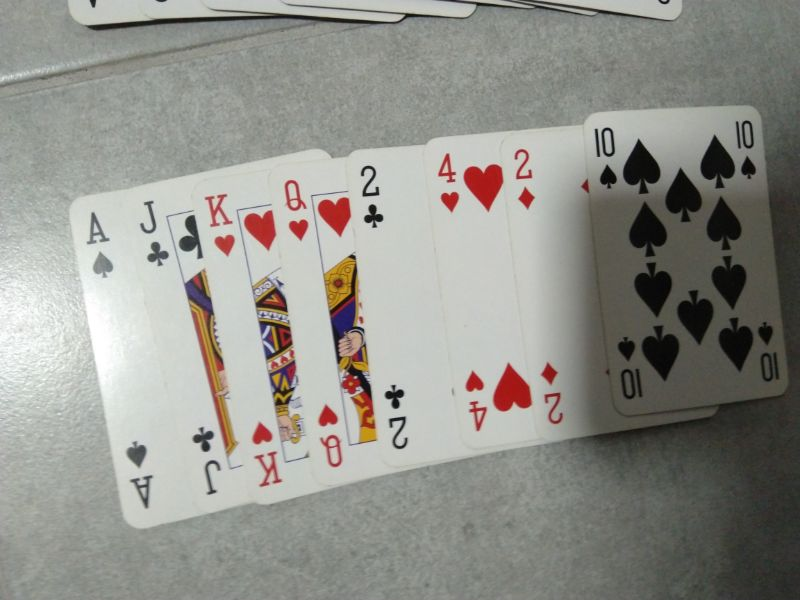2c: (377, 376, 418, 456), (351, 159, 392, 232)
2d: (506, 140, 546, 216), (532, 355, 570, 432)
4h: (458, 363, 499, 441), (429, 146, 469, 218)
As: (72, 200, 125, 287), (116, 430, 166, 518)
Jc: (183, 421, 231, 503), (132, 194, 174, 273)
Kh: (243, 411, 290, 497), (197, 185, 244, 261)
Qh: (275, 172, 316, 247), (309, 400, 349, 474)
Ts: (585, 117, 629, 193), (724, 111, 770, 182), (611, 330, 649, 409), (749, 315, 786, 389)
